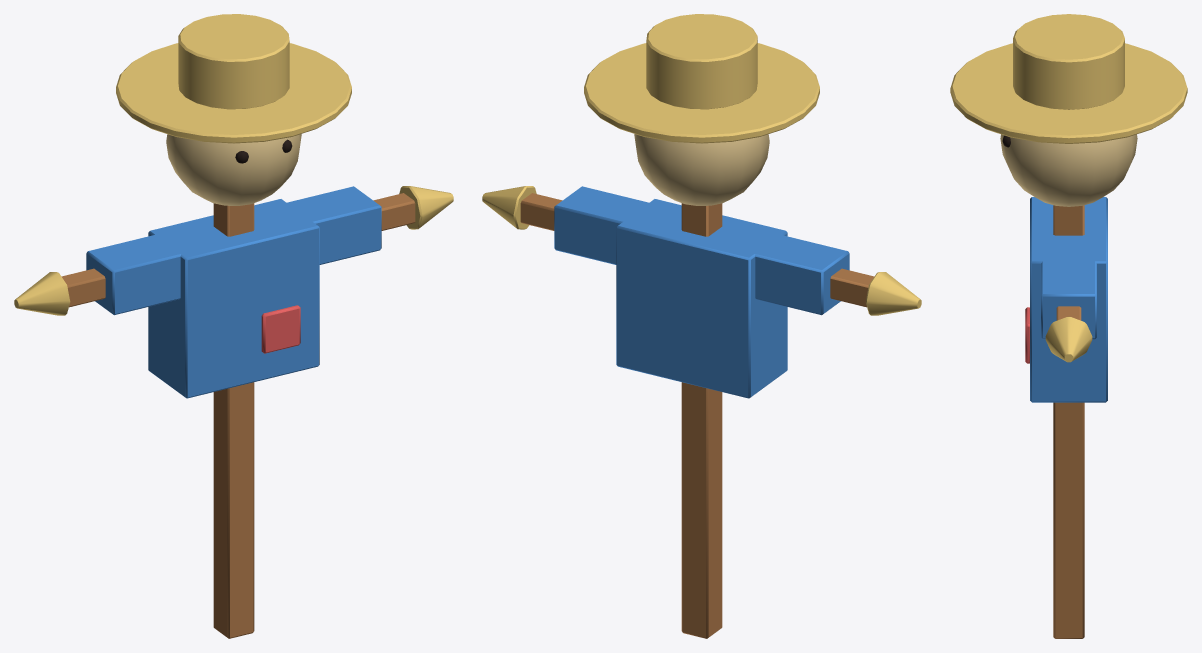
The model's file is scarecrow.glb.
3 renders of one model, left to right at view 1: azimuth 30°, elevation 25°; view 2: azimuth 150°, elevation 25°; view 3: azimuth 270°, elevation 25°, orthographic.
Visible parts, largest first — view 1: ScarecrowMesh; view 2: ScarecrowMesh; view 3: ScarecrowMesh.
Part boxes in pixels (x1=…): ScarecrowMesh: x1=14, y1=14, x2=453, y2=638; ScarecrowMesh: x1=482, y1=14, x2=921, y2=638; ScarecrowMesh: x1=950, y1=14, x2=1187, y2=638.
Bounding box in the file's own units: 1.62 × 2.11 × 0.76.
